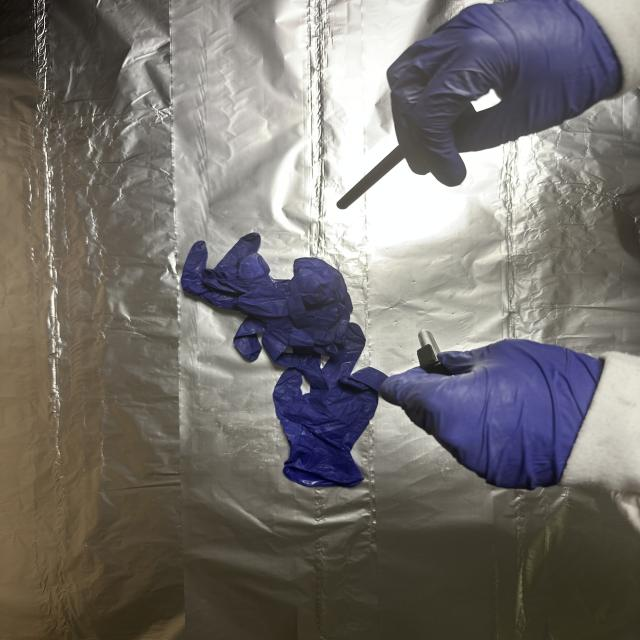gloves_contaminated: (388, 0, 622, 186), (382, 340, 603, 489)
